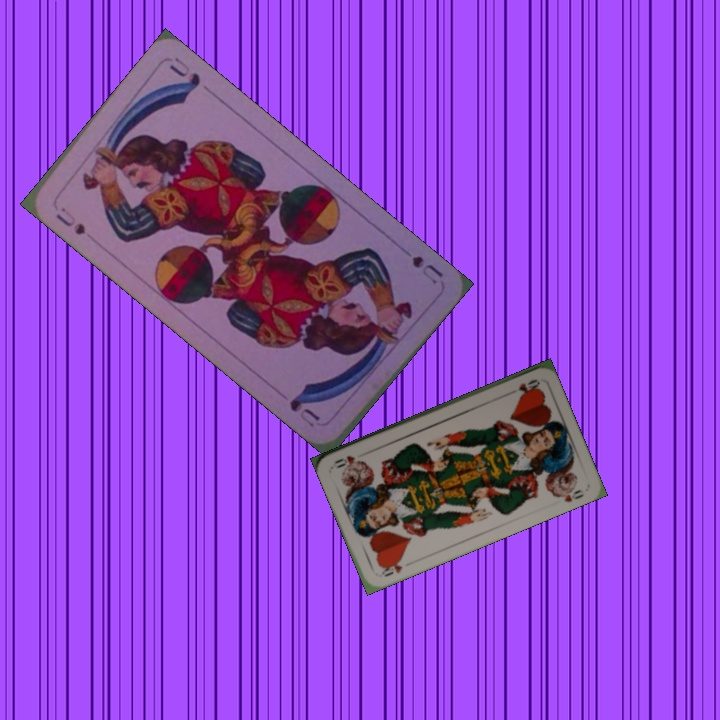HO: (377, 555, 405, 579), (514, 375, 542, 394)
SU: (407, 251, 446, 286), (52, 203, 89, 238)
